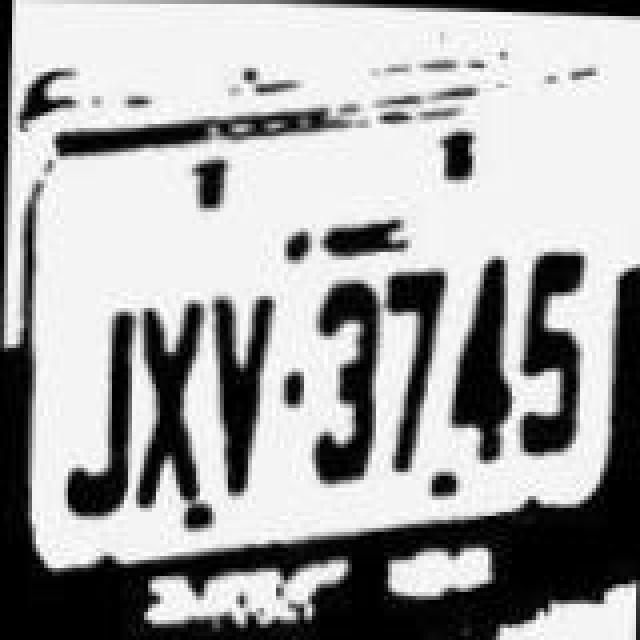3: (306, 266, 382, 498)
4: (442, 246, 518, 474)
5: (506, 234, 590, 486)
7: (374, 262, 450, 470)
J: (56, 292, 132, 524)
V: (202, 278, 278, 506)
X: (132, 278, 204, 510)
